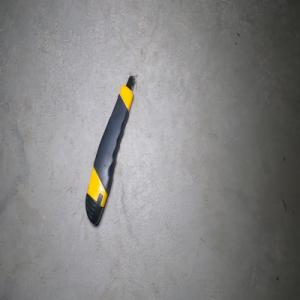Cutter: (84, 74, 136, 226)
